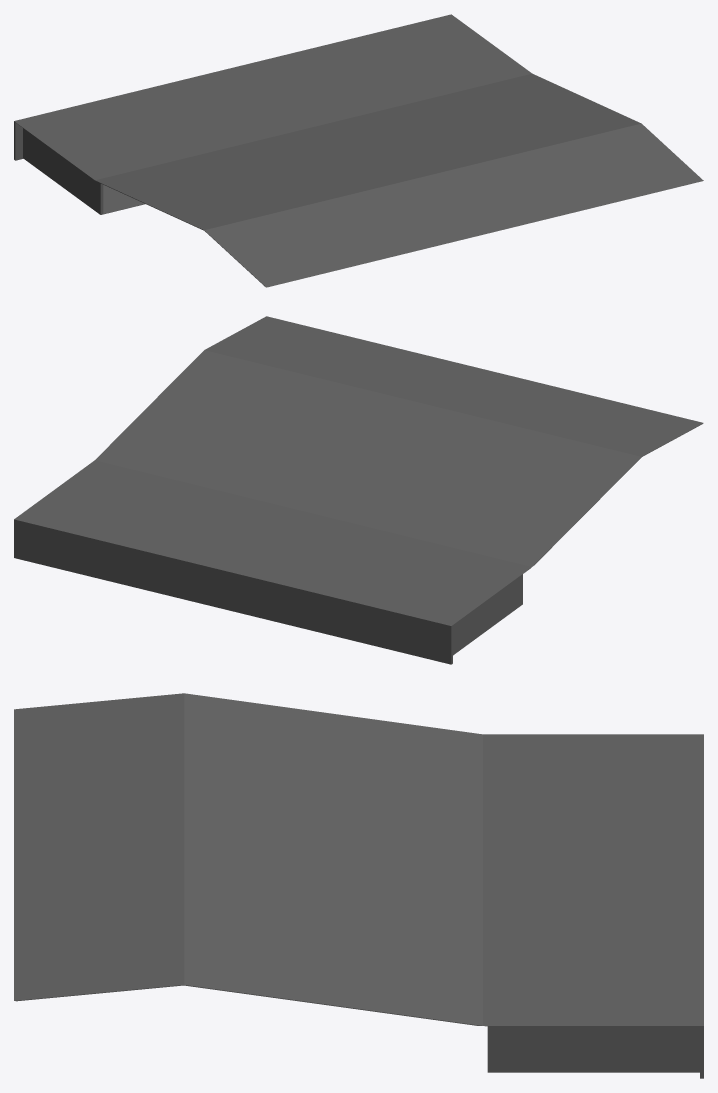
File: skeleton.obj
3 renders of one model, top to bottom at view 1: azimuth 30°, elevation 25°; view 2: azimuth 150°, elevation 25°; view 3: azimuth 270°, elevation 25°, orthographic. The views are drawn at different scales.
Size of the model in its own units: 300 by 45 by 300.
Materials: 1 (1 with a texture image).
